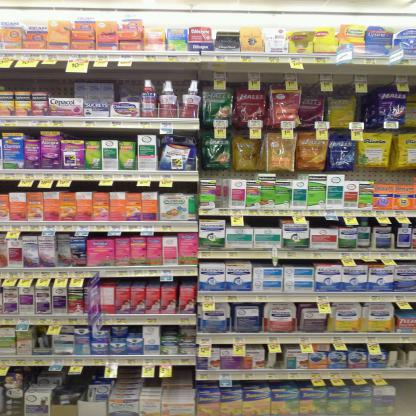Void: (50, 72, 80, 98), (118, 70, 142, 100), (397, 381, 415, 415), (6, 71, 39, 89), (58, 370, 86, 388), (249, 216, 277, 227)
